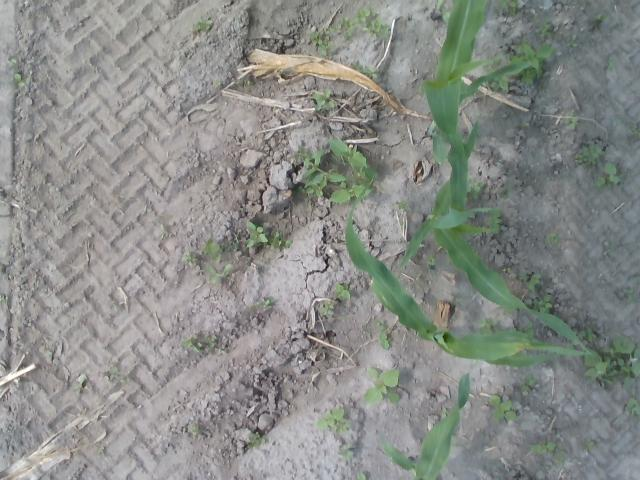Maize: (344, 176, 592, 369), (398, 117, 594, 361), (418, 0, 531, 167), (378, 373, 471, 480)
Weeds: (293, 138, 378, 210), (584, 333, 640, 387), (508, 40, 552, 86), (363, 366, 401, 404), (355, 8, 391, 40), (529, 440, 567, 468), (180, 333, 228, 355), (308, 24, 339, 58), (480, 58, 510, 92), (316, 407, 352, 434), (594, 162, 624, 192), (572, 142, 604, 167), (488, 394, 516, 421), (512, 272, 541, 293), (204, 264, 234, 284), (374, 318, 392, 350), (312, 88, 336, 112), (246, 221, 268, 247), (485, 207, 505, 234), (463, 176, 483, 202), (352, 59, 378, 78), (202, 238, 222, 262), (104, 364, 128, 383), (572, 326, 596, 344), (268, 231, 292, 249), (532, 294, 552, 314), (477, 316, 498, 334), (248, 296, 274, 310), (340, 16, 358, 36), (588, 12, 608, 30), (624, 398, 640, 420), (498, 0, 520, 16), (188, 18, 212, 32), (520, 373, 537, 392), (246, 432, 266, 448), (338, 442, 354, 462), (70, 374, 90, 390), (563, 110, 579, 129), (318, 300, 337, 316), (224, 236, 241, 253), (12, 72, 30, 88), (334, 282, 350, 299), (182, 250, 198, 267), (427, 252, 438, 276), (234, 77, 254, 90), (518, 320, 534, 336), (580, 436, 595, 452), (618, 287, 634, 302), (540, 22, 554, 38), (394, 199, 412, 210), (627, 123, 640, 138), (566, 34, 579, 48), (5, 55, 18, 68), (604, 57, 616, 70), (545, 233, 559, 244), (498, 187, 511, 197), (189, 424, 199, 436), (355, 472, 368, 480), (453, 293, 462, 303), (442, 406, 449, 418), (214, 80, 221, 86), (0, 263, 4, 273), (0, 294, 5, 301)
